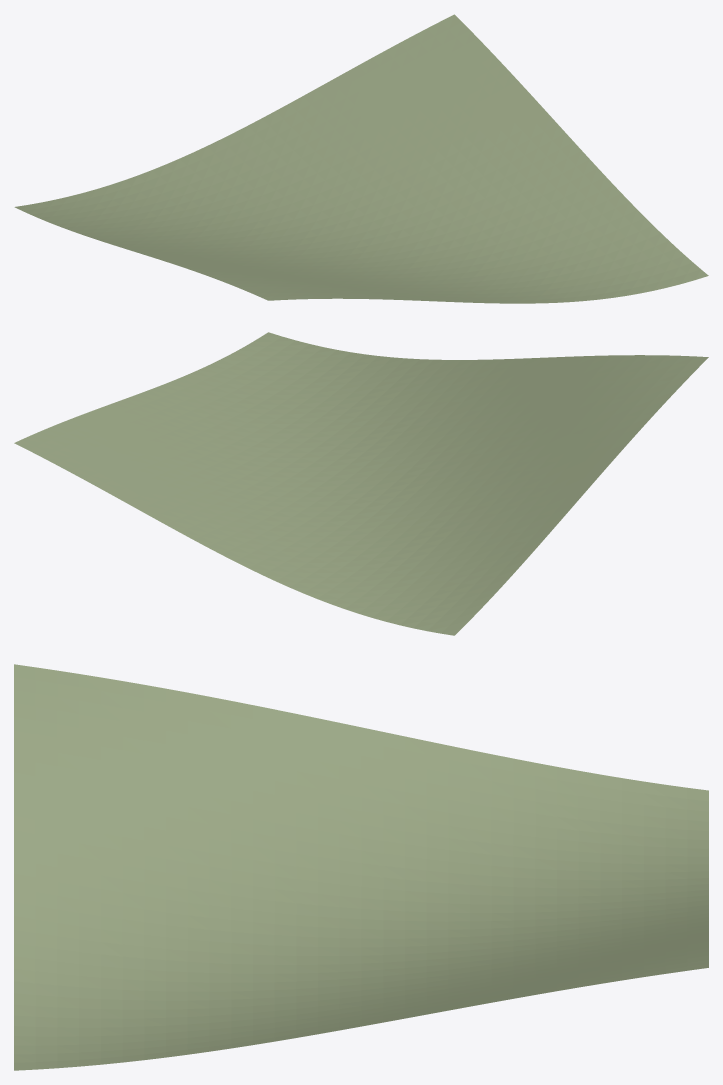
Rendered from expanse-9-10.glb.
The picture shows the model from 3 angles, top to bottom: view 1: azimuth 30°, elevation 25°; view 2: azimuth 150°, elevation 25°; view 3: azimuth 270°, elevation 25°; orthographic projection. The views are drawn at different scales.
Visible parts, largest first — view 1: expanse-9-10; view 2: expanse-9-10; view 3: expanse-9-10.
Boxes of the visible parts, bbox=[...] form: expanse-9-10: bbox=[14, 14, 708, 303]; expanse-9-10: bbox=[14, 332, 708, 635]; expanse-9-10: bbox=[14, 664, 708, 1070].
Size of the model in its own units: 256 by 52.93 by 256.
